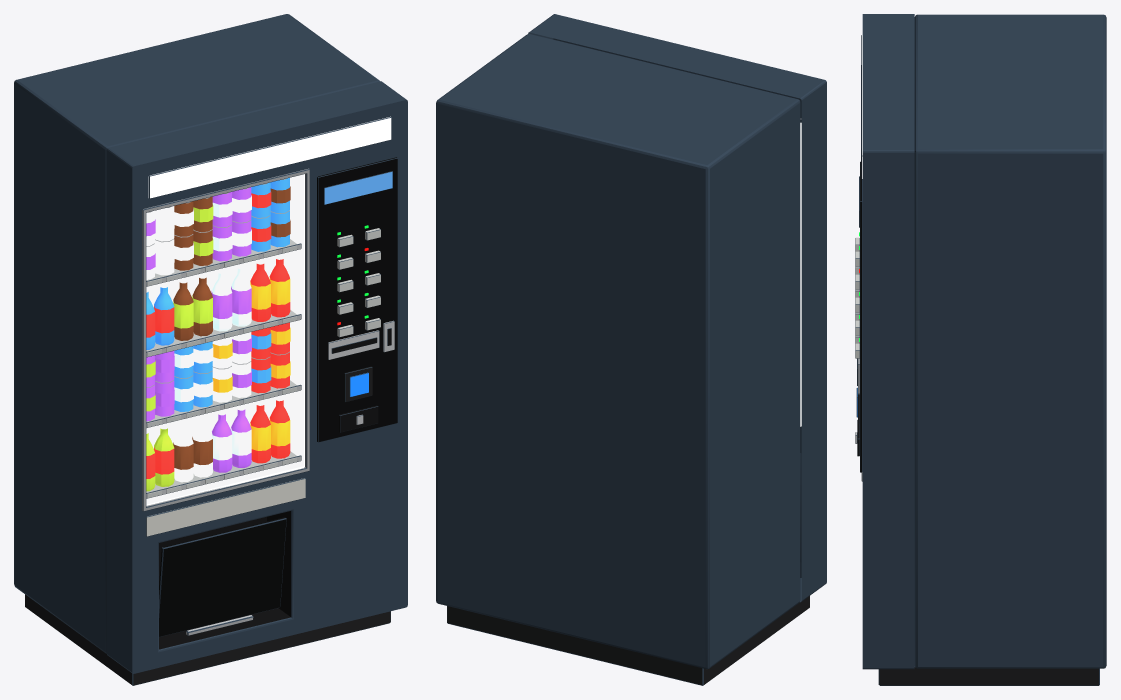
The model's file is gteki_vending_machine.glb.
The picture shows the model from 3 angles, left to right: view 1: azimuth 30°, elevation 25°; view 2: azimuth 150°, elevation 25°; view 3: azimuth 270°, elevation 25°; orthographic projection. The views are drawn at different scales.
Visible parts, largest first — view 1: VIS_body, VIS_fascia, VIS_drinks, VIS_controls, VIS_trim, VIS_pickup, VIS_window; view 2: VIS_body, VIS_fascia; view 3: VIS_body, VIS_fascia, VIS_controls.
Boxes of the visible parts, bbox=[...] form: VIS_body: bbox=[14, 14, 390, 685]; VIS_fascia: bbox=[106, 81, 407, 673]; VIS_drinks: bbox=[146, 177, 290, 491]; VIS_controls: bbox=[317, 157, 397, 442]; VIS_trim: bbox=[142, 116, 391, 536]; VIS_pickup: bbox=[159, 516, 286, 636]; VIS_window: bbox=[146, 239, 301, 498]; VIS_body: bbox=[436, 34, 809, 685]; VIS_fascia: bbox=[528, 14, 826, 602]; VIS_body: bbox=[878, 14, 1106, 685]; VIS_fascia: bbox=[862, 14, 914, 669]; VIS_controls: bbox=[855, 161, 862, 472].
Size of what is drawn, in the model's own units: 1 by 1.83 by 0.772.
